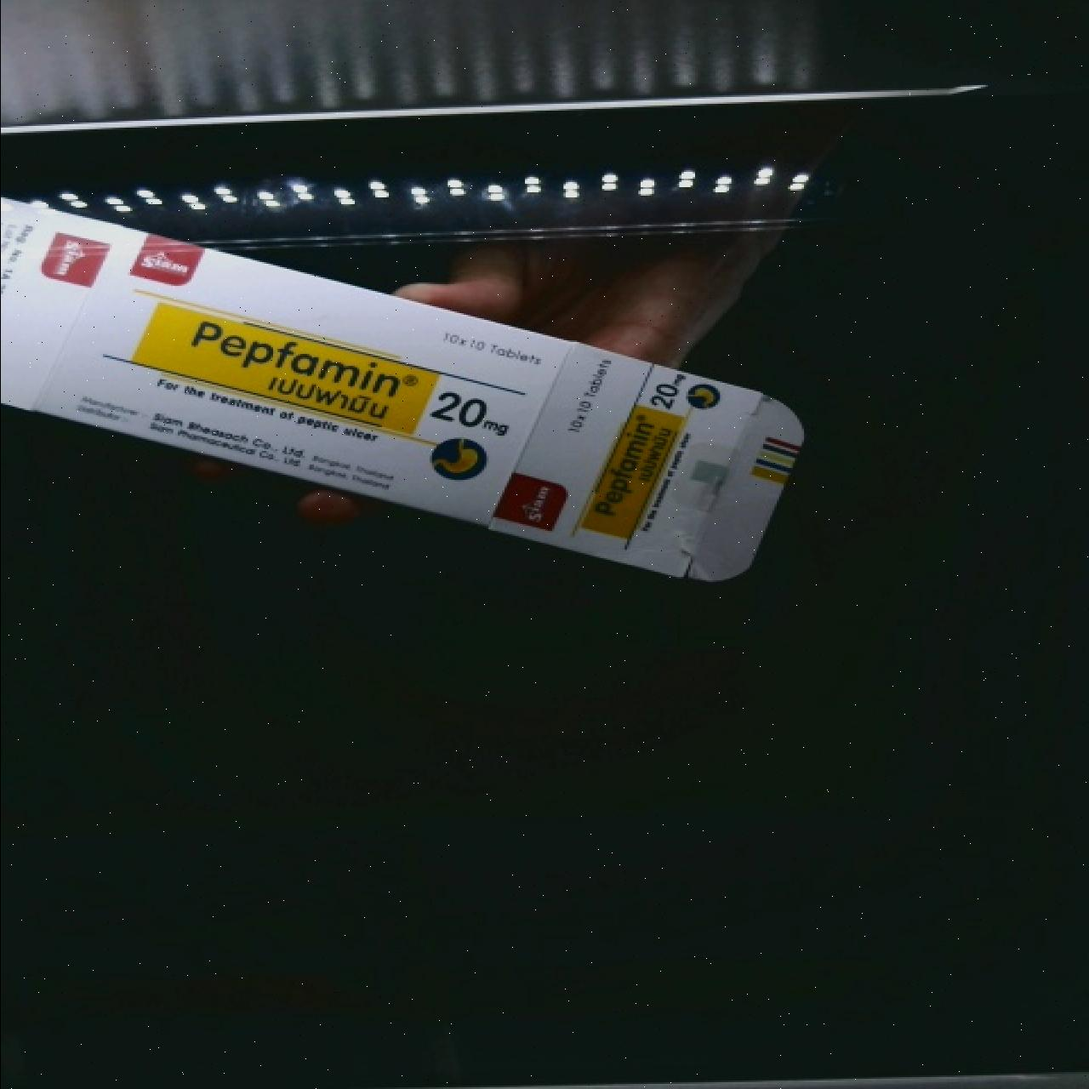medicine_label_obb: (140, 303, 432, 436)
